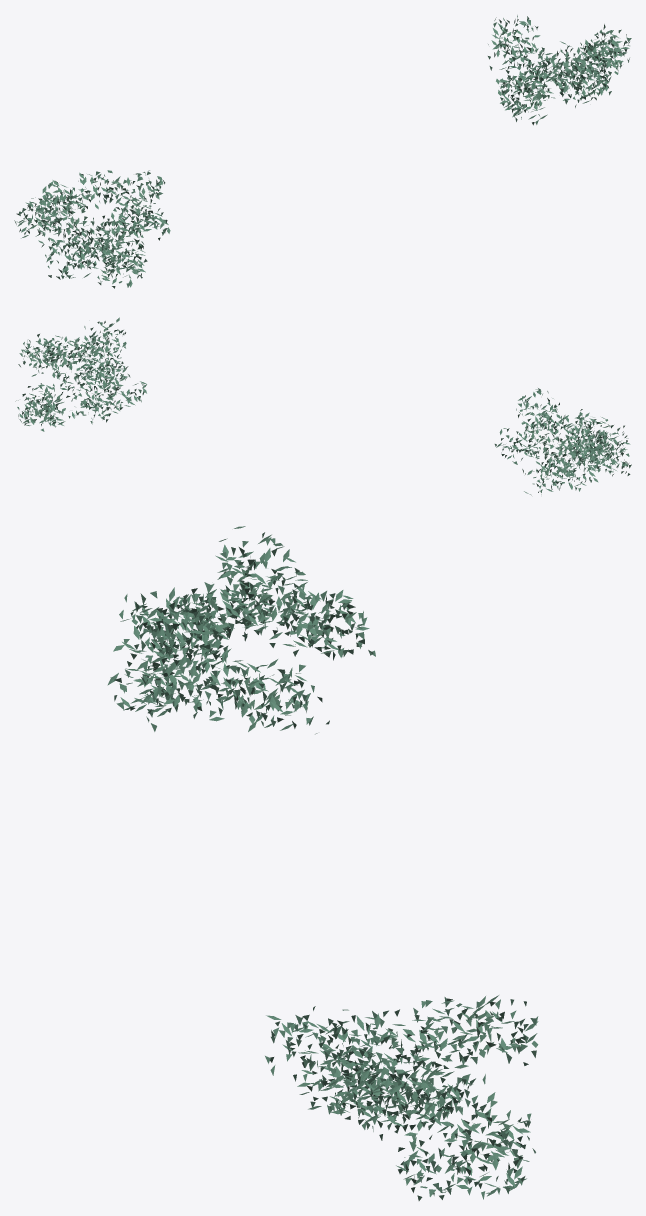
The model's file is xiyuan-vegetation-20-medium.glb.
The picture shows the model from 3 angles, top to bottom: view 1: azimuth 30°, elevation 25°; view 2: azimuth 150°, elevation 25°; view 3: azimuth 270°, elevation 25°; orthographic projection. The views are drawn at different scales.
Parts seen in each view (by area): view 1: vegetation broadleaf leaves.002; view 2: vegetation broadleaf leaves.002; view 3: vegetation broadleaf leaves.002.
Boxes of the visible parts, x1,y1,x2,y2 form: vegetation broadleaf leaves.002: (14,15,631,288); vegetation broadleaf leaves.002: (15,317,631,495); vegetation broadleaf leaves.002: (107,526,538,1200).
Size of the model in its own units: 36.33 by 5.39 by 12.22.
